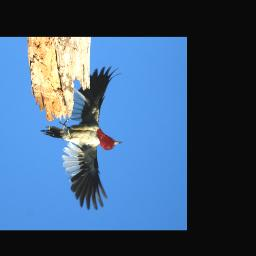Woodpecker: (40, 66, 122, 211)
